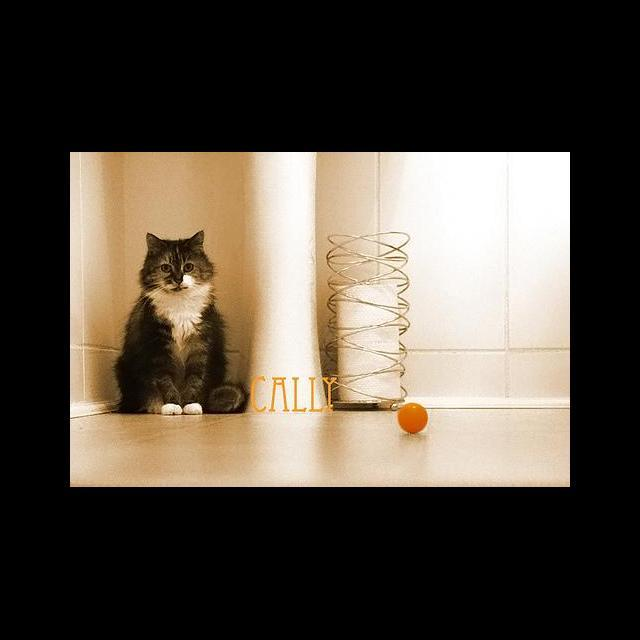ping-pong-ball: (396, 402, 428, 436)
